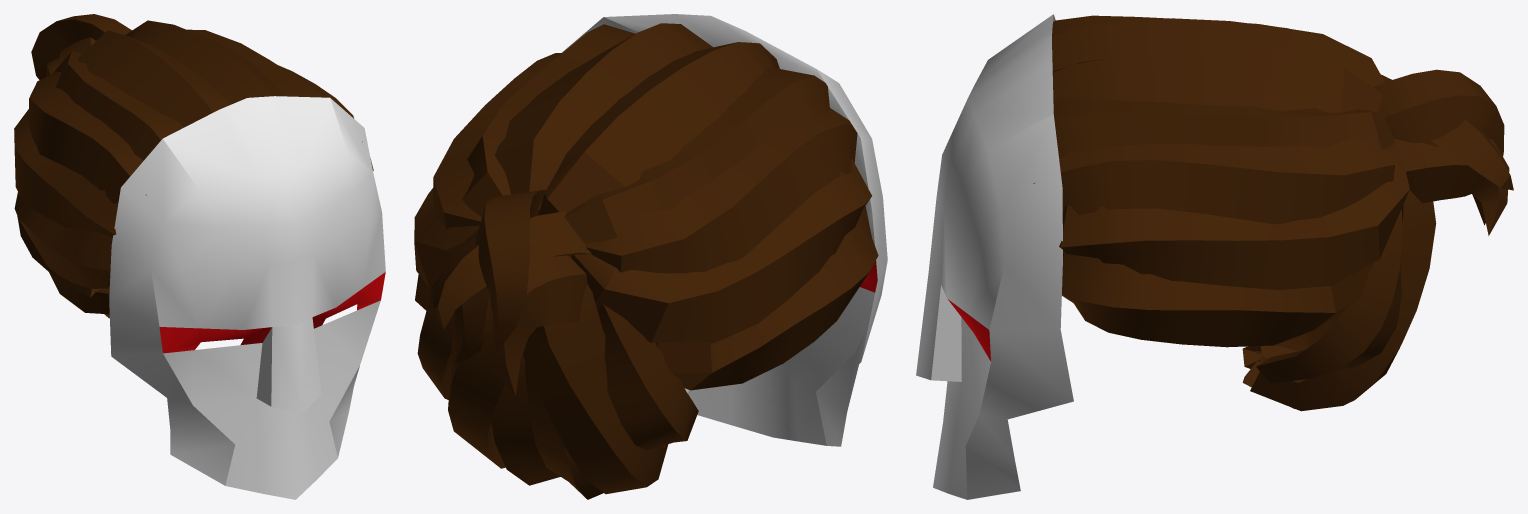
Rendered from Cleric_Head.fbx.
3 views of the same model, side by side, from view 1: azimuth 30°, elevation 25°; view 2: azimuth 150°, elevation 25°; view 3: azimuth 270°, elevation 25° (orthographic). The views are drawn at different scales.
Parts seen in each view (by area): view 1: Head; view 2: Head; view 3: Head.
Boxes of the visible parts, bbox=[...] form: Head: bbox=[14, 14, 385, 499]; Head: bbox=[414, 14, 887, 499]; Head: bbox=[916, 14, 1513, 499].
Bounding box in the file's own units: 76.29 × 90.04 × 108.
